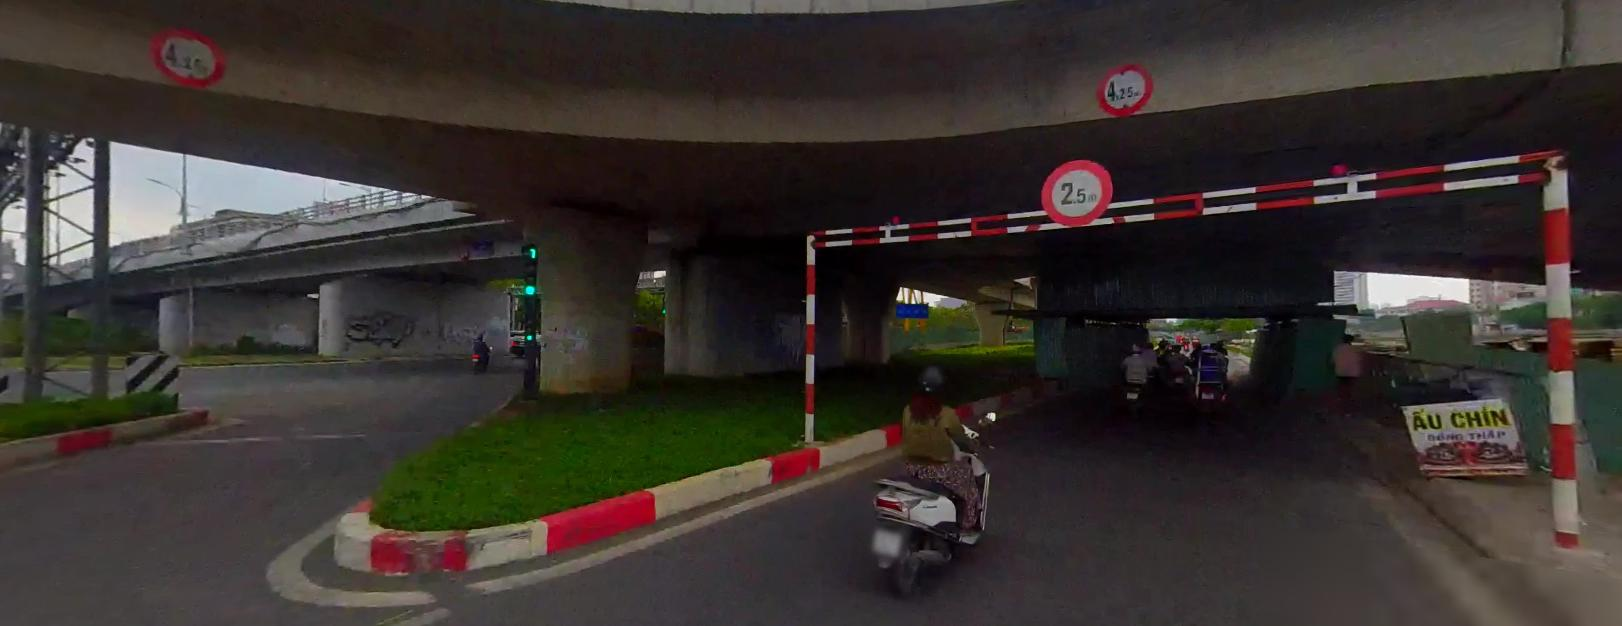Cam con lai: (151, 20, 232, 90), (1039, 157, 1114, 228), (1097, 63, 1155, 116)
